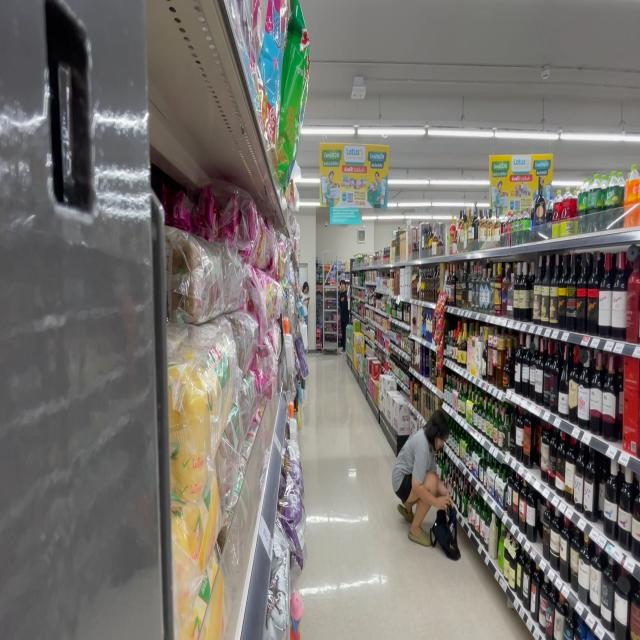shoplifting: (395, 403, 462, 568)
